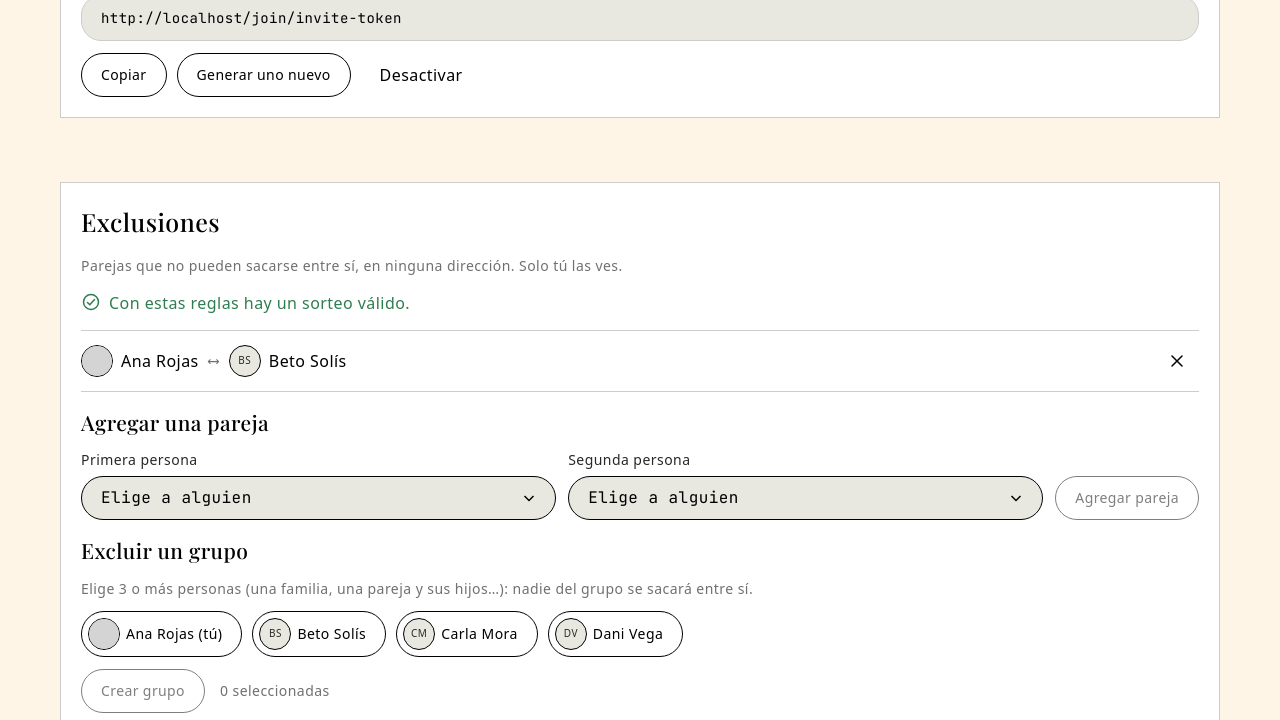
Test: Manage › Exclusions › removes a pair and refreshes the event (draw readiness)
(page scrolled)
Click the button named "Quitar la exclusión entre Ana Rojas y Beto Solís": (1177, 360) 1155,338 -> 1199,382
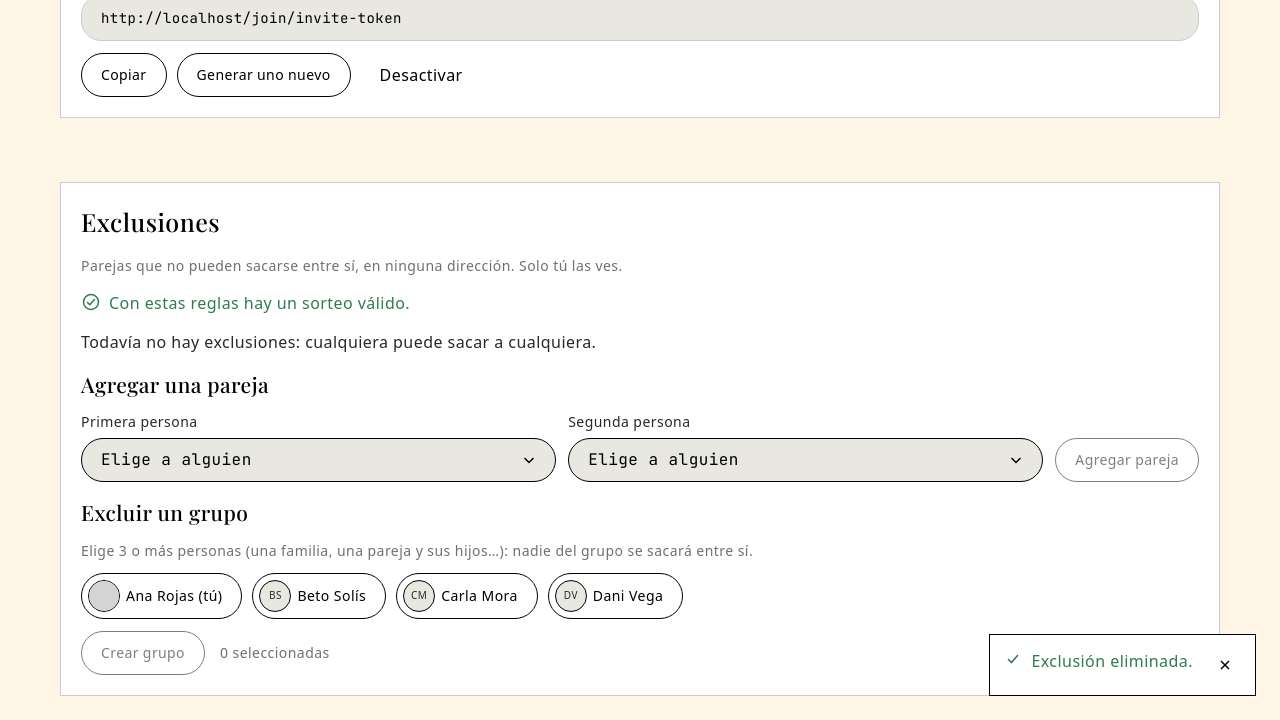
Expected: the text "Exclusión eliminada." is shown, 1031,649 -> 1193,673
Expected: the text "Todavía no hay exclusiones: cualquiera puede sacar a cualquiera." is shown, 81,330 -> 596,352
